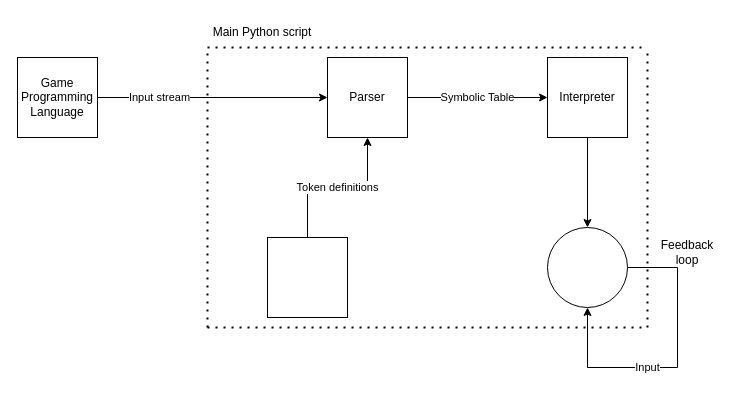
Some shapes in this 735 by 393 pixel diagram are drawn without their labels. Each missing label, with the centre of its shape:
"Game Engine" belongs at pixel 587 267.
"Scanner" belongs at pixel 307 277.
